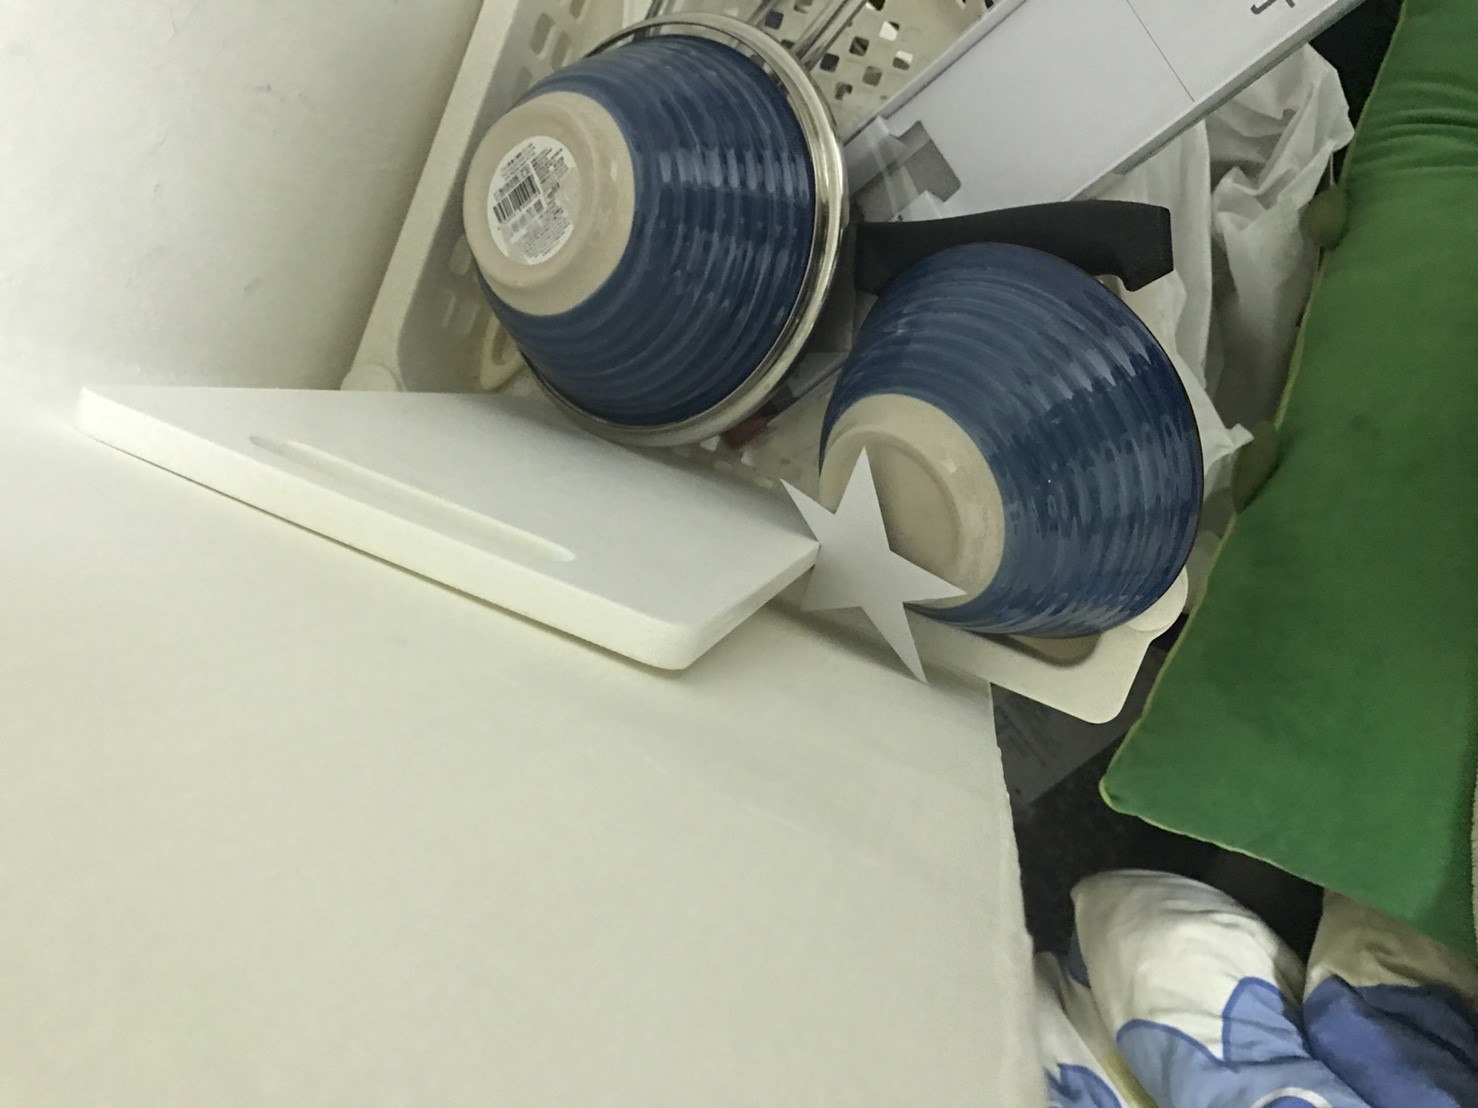star: (783, 443, 992, 699)
